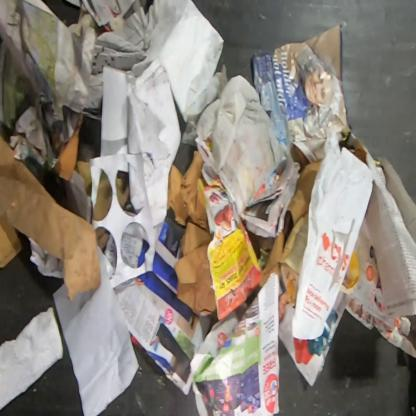cardboard: (0, 134, 102, 303), (0, 216, 22, 273)
